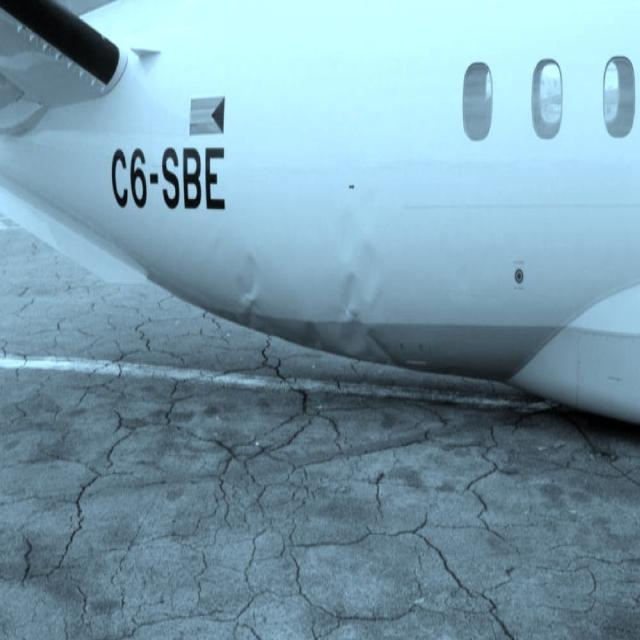dent: (331, 185, 382, 378), (237, 256, 270, 337)
